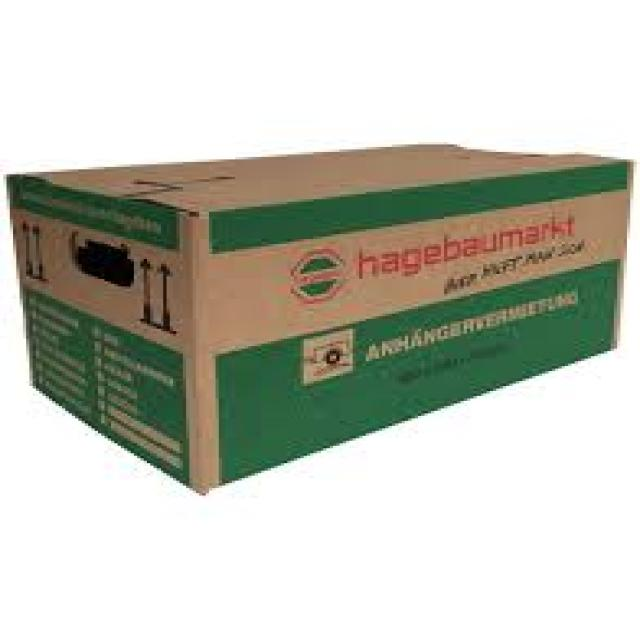cardboard: (0, 142, 627, 488)
